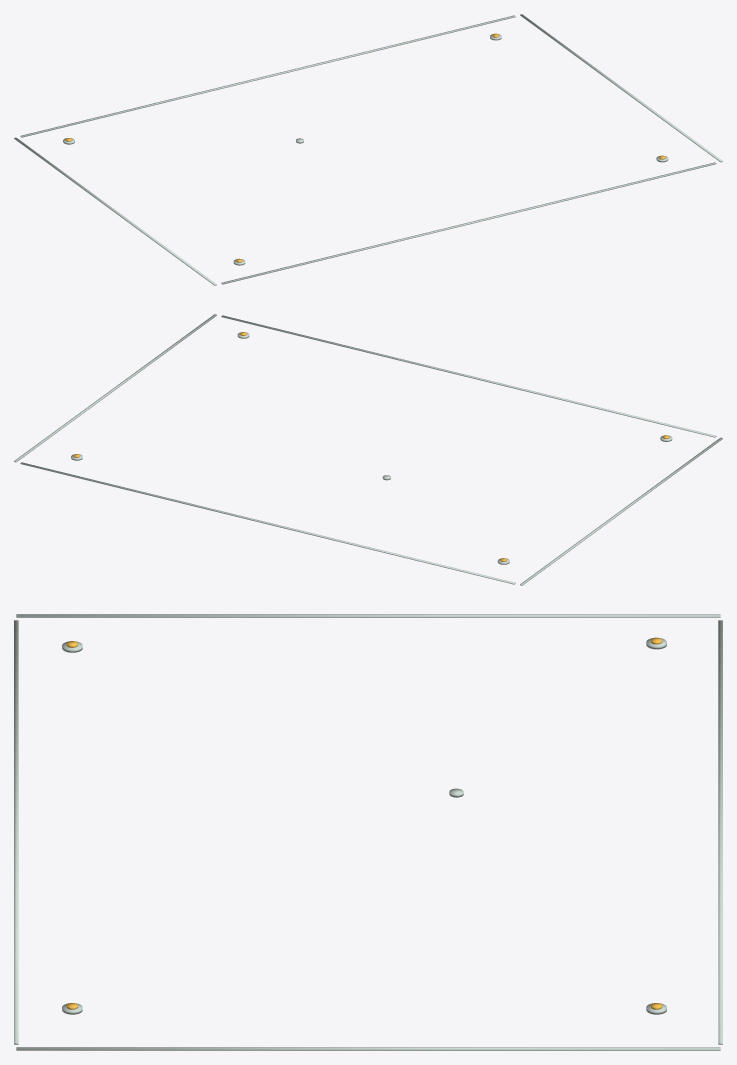
The model's file is 13_L94_SilkscreenAndTestFiducials.fbx.
The picture shows the model from 3 angles, top to bottom: view 1: azimuth 30°, elevation 25°; view 2: azimuth 150°, elevation 25°; view 3: azimuth 270°, elevation 25°; orthographic projection. The views are drawn at different scales.
Visible parts, largest first — view 1: L94_SilkscreenAndTestFiducials; view 2: L94_SilkscreenAndTestFiducials; view 3: L94_SilkscreenAndTestFiducials.
Part boxes in pixels (<box>): L94_SilkscreenAndTestFiducials: <box>14,14,722,285</box>; L94_SilkscreenAndTestFiducials: <box>14,314,722,585</box>; L94_SilkscreenAndTestFiducials: <box>14,614,722,1050</box>.
Bounding box in the file's own units: 129 × 1 × 88.6.
